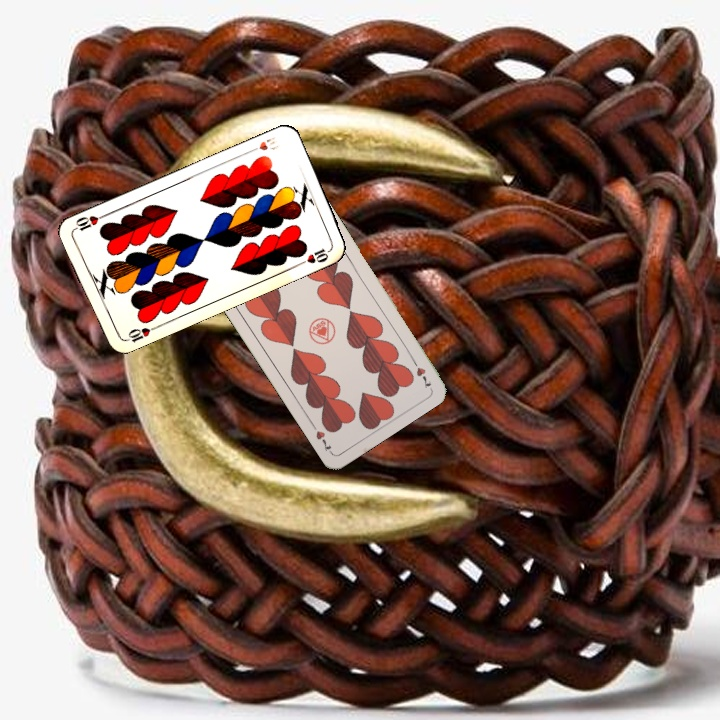H10: (245, 132, 283, 156), (120, 322, 159, 345)
H7: (408, 354, 434, 390)
